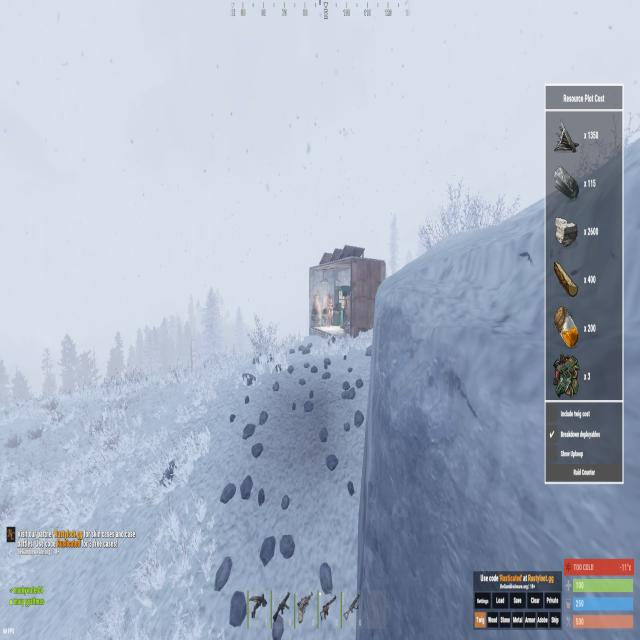Player: (327, 292, 334, 330)
